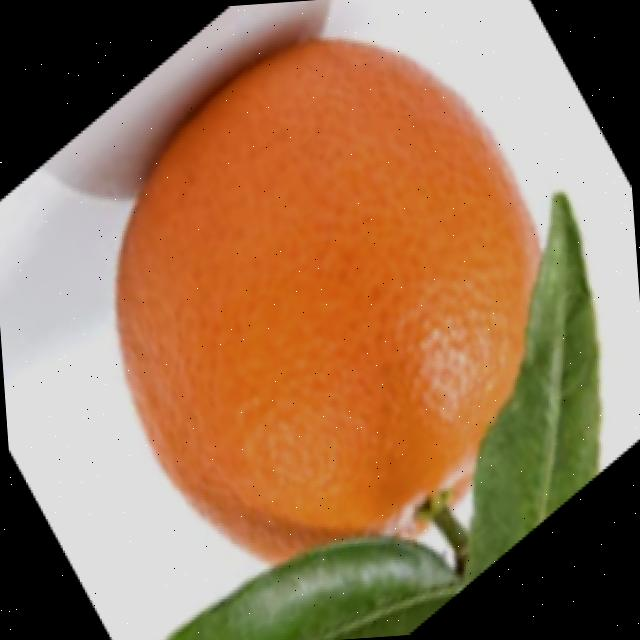orange: (99, 24, 566, 569)
